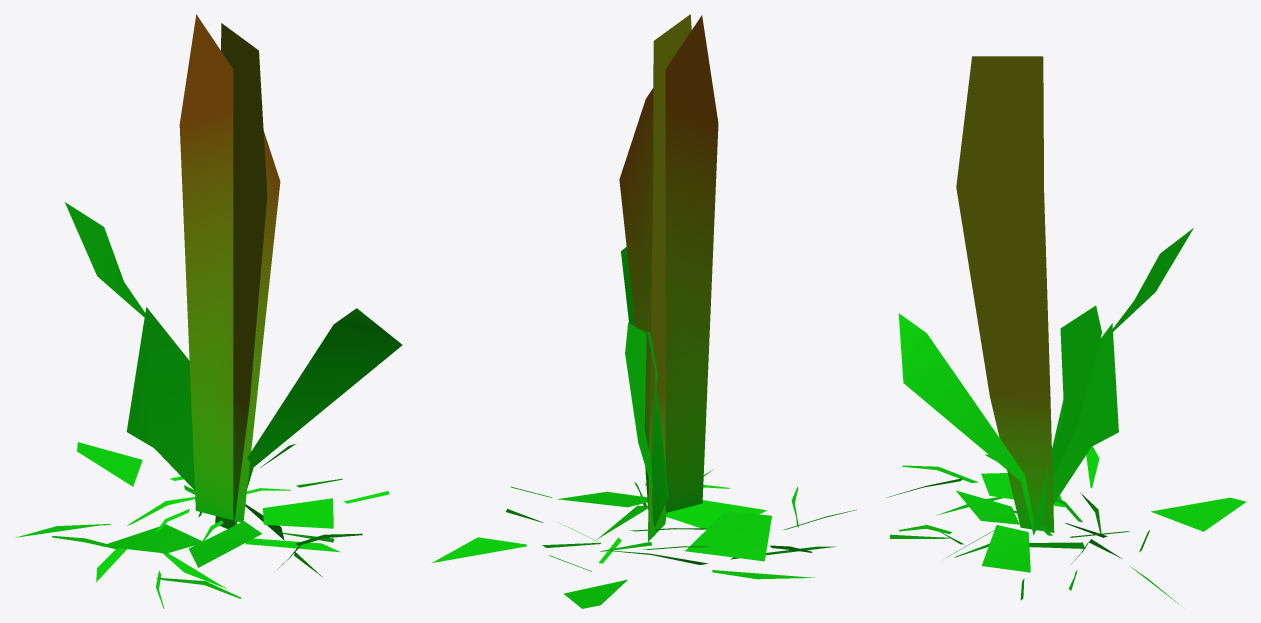
File: Var9_LOD3.fbx
The picture shows the model from 3 angles, left to right: view 1: azimuth 30°, elevation 25°; view 2: azimuth 150°, elevation 25°; view 3: azimuth 270°, elevation 25°; orthographic projection. The views are drawn at different scales.
Visible parts, largest first — view 1: _gl0v_Var9_LOD3; view 2: _gl0v_Var9_LOD3; view 3: _gl0v_Var9_LOD3.
Boxes of the visible parts, x1,y1,x2,y2 form: _gl0v_Var9_LOD3: (16,14,402,608); _gl0v_Var9_LOD3: (432,14,856,608); _gl0v_Var9_LOD3: (886,56,1246,606).
Size of the model in its own units: 20.08 by 30.17 by 19.4.
